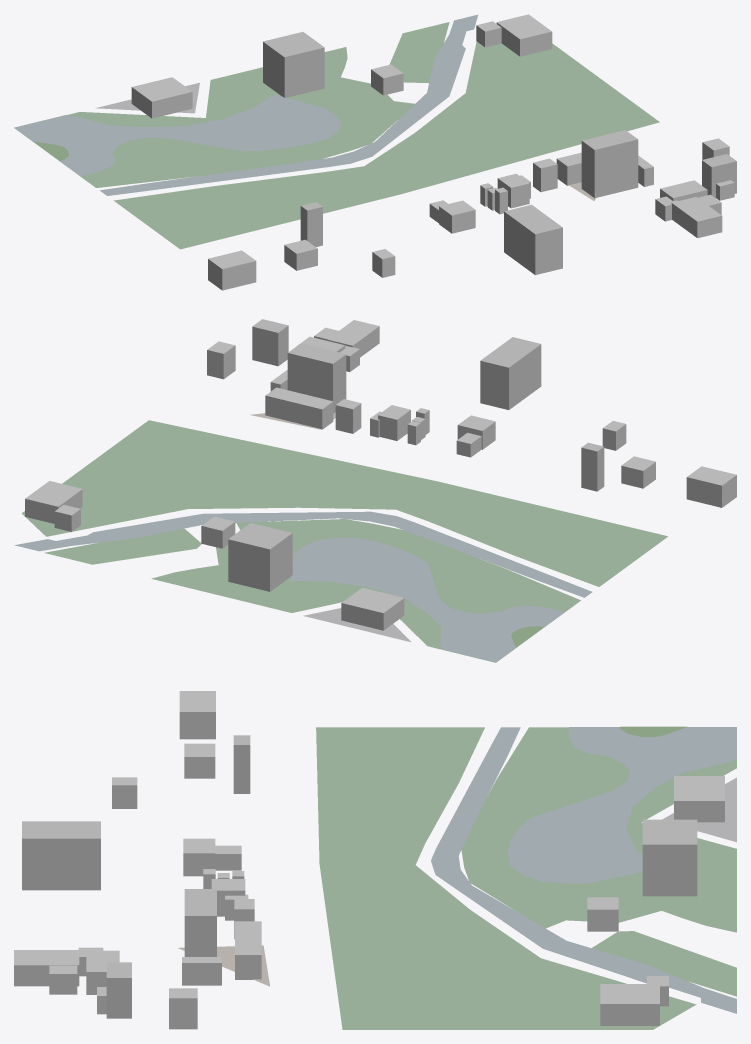
The model's file is 123_112_mid.glb.
The picture shows the model from 3 angles, top to bottom: view 1: azimuth 30°, elevation 25°; view 2: azimuth 150°, elevation 25°; view 3: azimuth 270°, elevation 25°; orthographic projection. The views are drawn at different scales.
Size of the model in its own units: 513 by 48.4 by 505.
